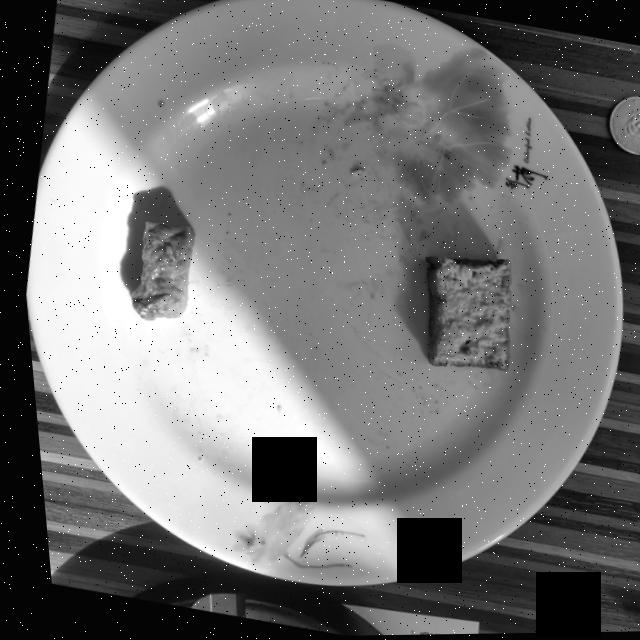coin: (605, 98, 640, 157)
creamy tofu: (125, 222, 189, 321)
egg tofu: (420, 258, 505, 372)
